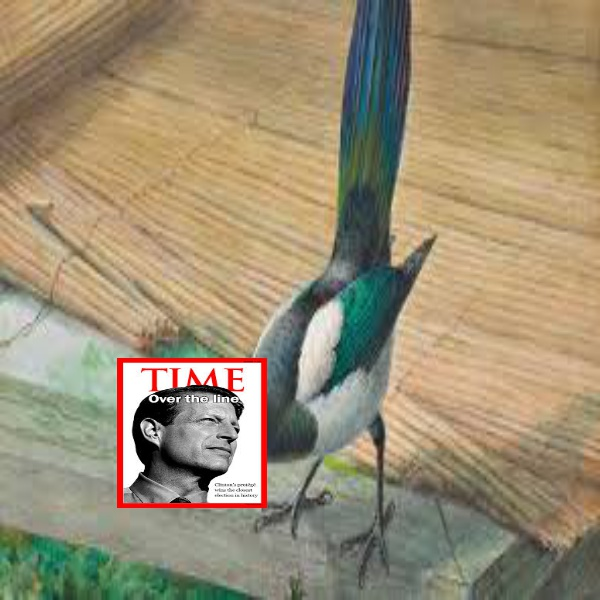time_cover: (106, 352, 276, 513)
